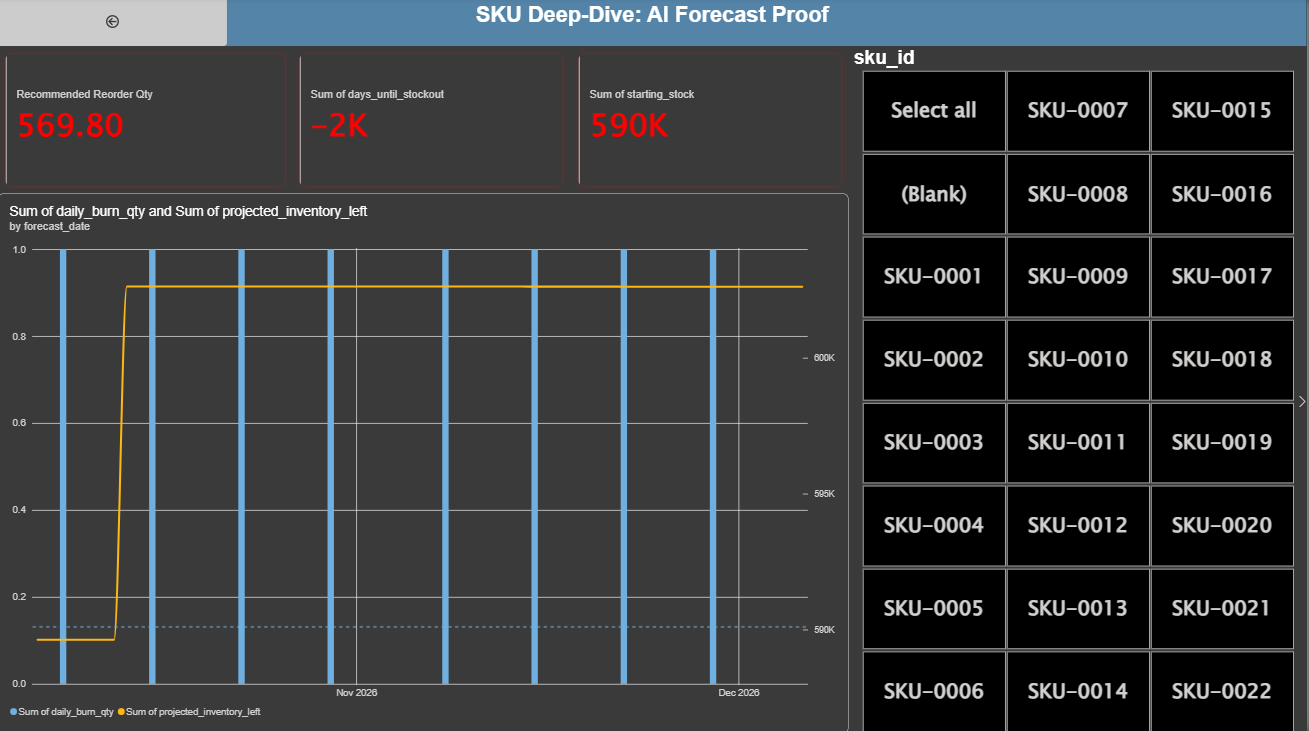

Layout of this report page (visuals, bound fields, positions):
{"tool":"powerbi","page":{"name":"SKU Deep-Dive: AI Forecast Proof","canvas":[1920,1080],"ordinal":2},"visuals":[{"type":"textbox","box":[0,0,1920,72],"z":0},{"type":"actionButton","box":[0,0,336,72],"z":1000},{"type":"slicer","fields":{"Values":["dim_product.sku_id"]},"box":[1248,72,672,1008],"z":2000},{"type":"cardVisual","fields":{"Data":["_Key_Measures.Recommended Reorder Qty"]},"box":[0,72,432,216],"z":3000},{"type":"cardVisual","fields":{"Data":["Sum(replenishment_risk.starting_stock)"]},"box":[840,72,408,216],"z":4000},{"type":"cardVisual","fields":{"Data":["Sum(replenishment_risk.days_until_stockout)"]},"box":[432,72,408,216],"z":5000},{"type":"lineClusteredColumnComboChart","fields":{"Y":["Sum(fact_daily_depletion.daily_burn_qty)"],"Y2":["Sum(fact_daily_depletion.projected_inventory_left)"],"Category":["fact_daily_depletion.forecast_date"]},"box":[0,288,1248,792],"z":6000}]}

Visuals, with their boxes in screenshot pixels (x1, y1, x2, y2), scaled from the page's 1920x1080 canvas onto the 1309x731 screenshot:
textbox: <box>0,0,1308,49</box>
actionButton: <box>0,0,229,49</box>
slicer - dim_product.sku_id: <box>851,49,1308,730</box>
cardVisual - _Key_Measures.Recommended Reorder Qty: <box>0,49,295,195</box>
cardVisual - Sum(replenishment_risk.starting_stock): <box>573,49,851,195</box>
cardVisual - Sum(replenishment_risk.days_until_stockout): <box>295,49,573,195</box>
lineClusteredColumnComboChart - Sum(fact_daily_depletion.daily_burn_qty) x Sum(fact_daily_depletion.projected_inventory_left): <box>0,195,851,730</box>
